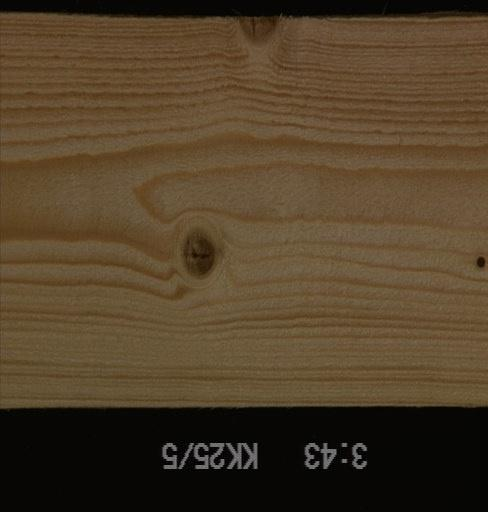dry_knot: (474, 254, 486, 270)
edge_knot: (233, 12, 288, 50)
sound_knot: (177, 228, 218, 282)
